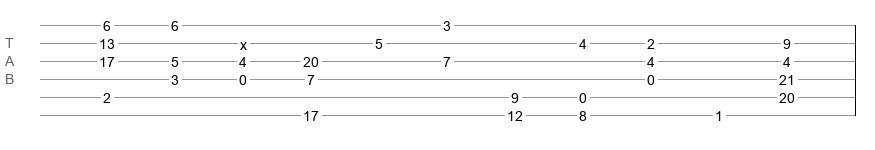0: (239, 72, 247, 82), (579, 90, 587, 100), (647, 72, 655, 82)
1: (715, 108, 723, 118)
12: (507, 108, 523, 118)
13: (99, 36, 115, 46)
17: (99, 54, 115, 64), (303, 108, 319, 118)
2: (103, 90, 111, 100), (647, 36, 655, 46)
20: (303, 54, 319, 64), (779, 90, 795, 100)
21: (779, 72, 795, 82)
3: (171, 72, 179, 82), (443, 18, 451, 28)
4: (239, 54, 247, 64), (579, 36, 587, 46), (647, 54, 655, 64), (783, 54, 791, 64)
5: (171, 54, 179, 64), (375, 36, 383, 46)
6: (103, 18, 111, 28), (171, 18, 179, 28)
7: (307, 72, 315, 82), (443, 54, 451, 64)
8: (579, 108, 587, 118)
9: (511, 90, 519, 100), (783, 36, 791, 46)
x: (240, 37, 247, 45)
